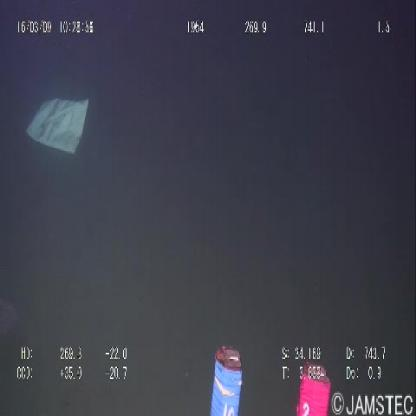Rác: (22, 88, 94, 162)
